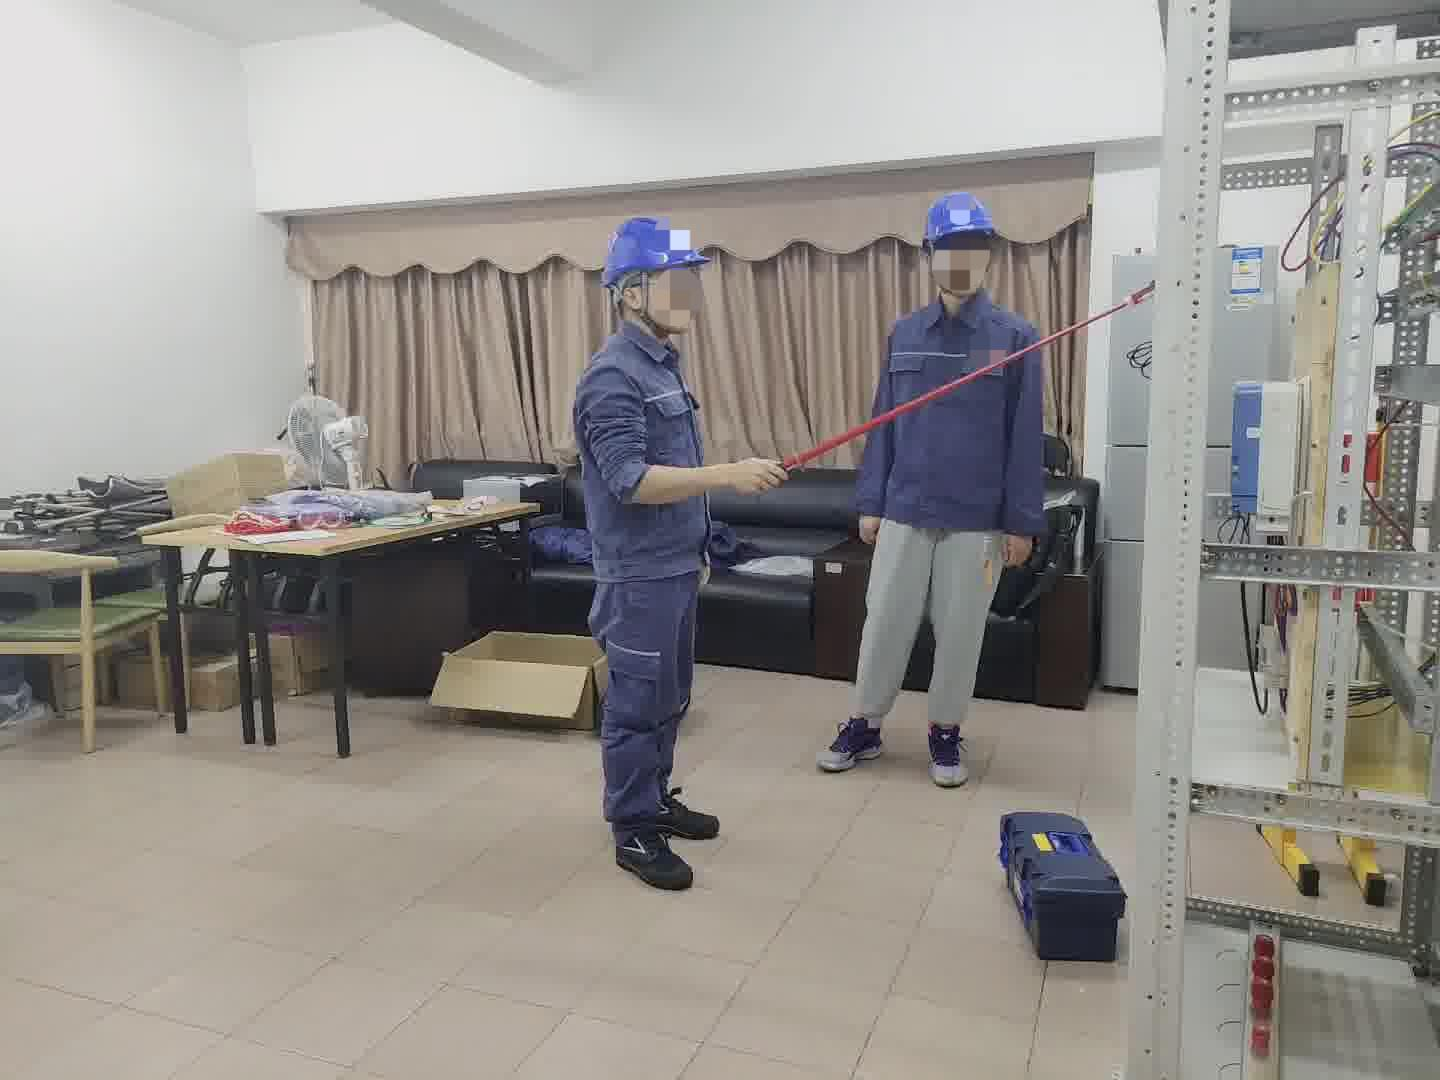halt: (601, 221, 712, 334), (922, 194, 1005, 301)
inear: (612, 277, 661, 328)
